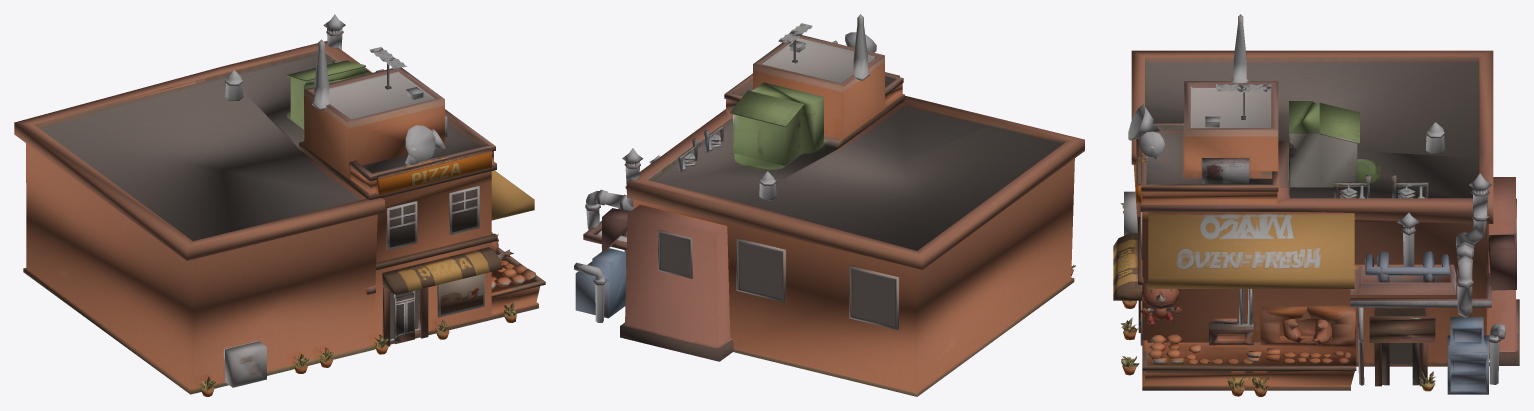
Rendered from tripo_convert_8b0a6a9f-e7a2-4cae-aaa0-e4bfcfae3b1d.fbx.
3 renders of one model, left to right at view 1: azimuth 30°, elevation 25°; view 2: azimuth 150°, elevation 25°; view 3: azimuth 270°, elevation 25°, orthographic. The views are drawn at different scales.
Parts seen in each view (by area): view 1: tripo_node_8b0a6a9f; view 2: tripo_node_8b0a6a9f; view 3: tripo_node_8b0a6a9f.
Part boxes in pixels (x1,y1,x2,y2): tripo_node_8b0a6a9f: (14, 14, 545, 396); tripo_node_8b0a6a9f: (574, 14, 1084, 396); tripo_node_8b0a6a9f: (1113, 14, 1519, 396).
Bounding box in the file's own units: 99.8 × 90.43 × 71.29.
1 material, 1 textured.
